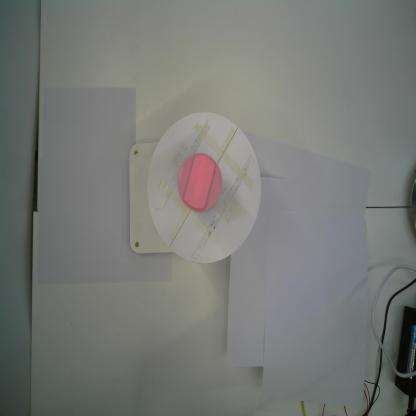Canned Food: (177, 152, 223, 215)
